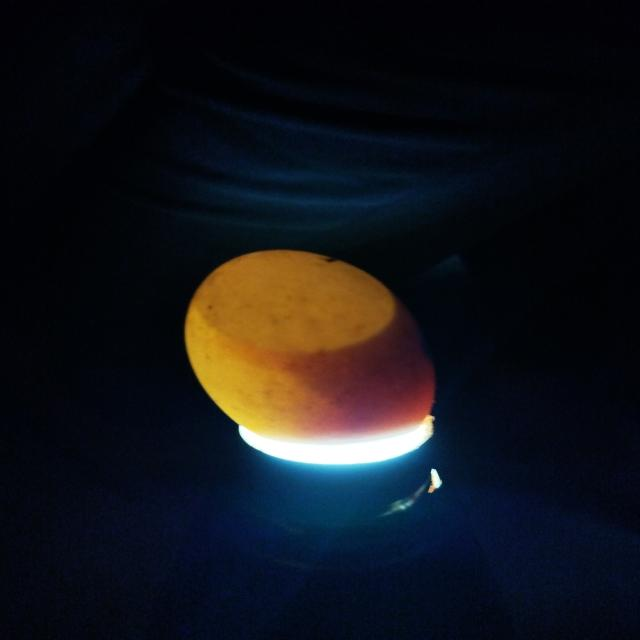Area Infectada: (287, 293, 434, 429)
